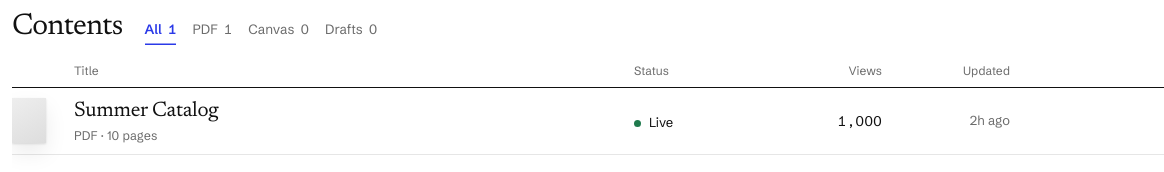
Test: FlipbookTable › explains an empty filter
The image size is (1164, 172).
Click the button "Canvas 0".
click(279, 33)  # box 248,21 -> 309,44
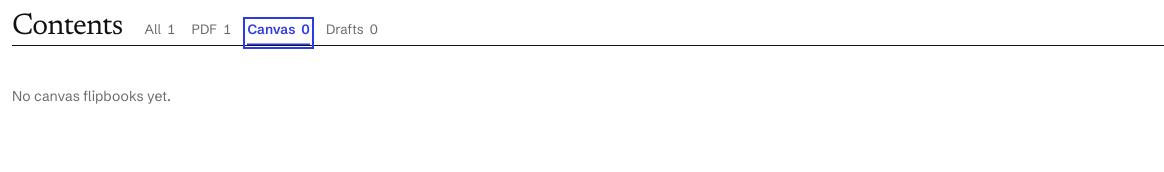
Now the text "No canvas flipbooks yet." is shown, box 12,44 -> 1163,146
